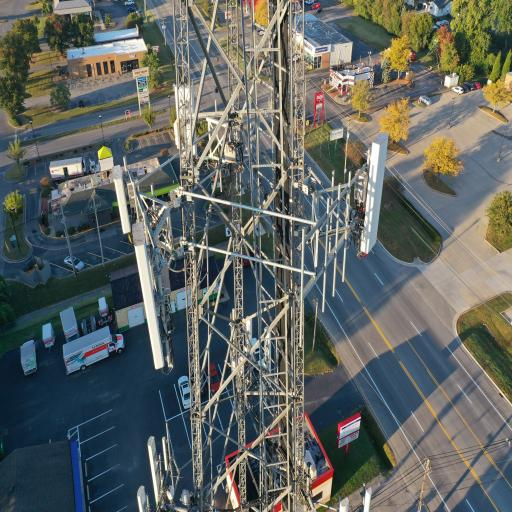supporting_tower: (95, 0, 396, 512)
